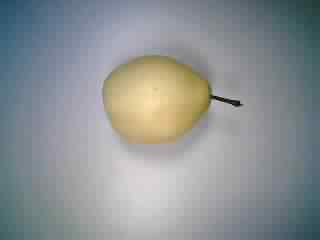pear: (94, 32, 250, 157)
